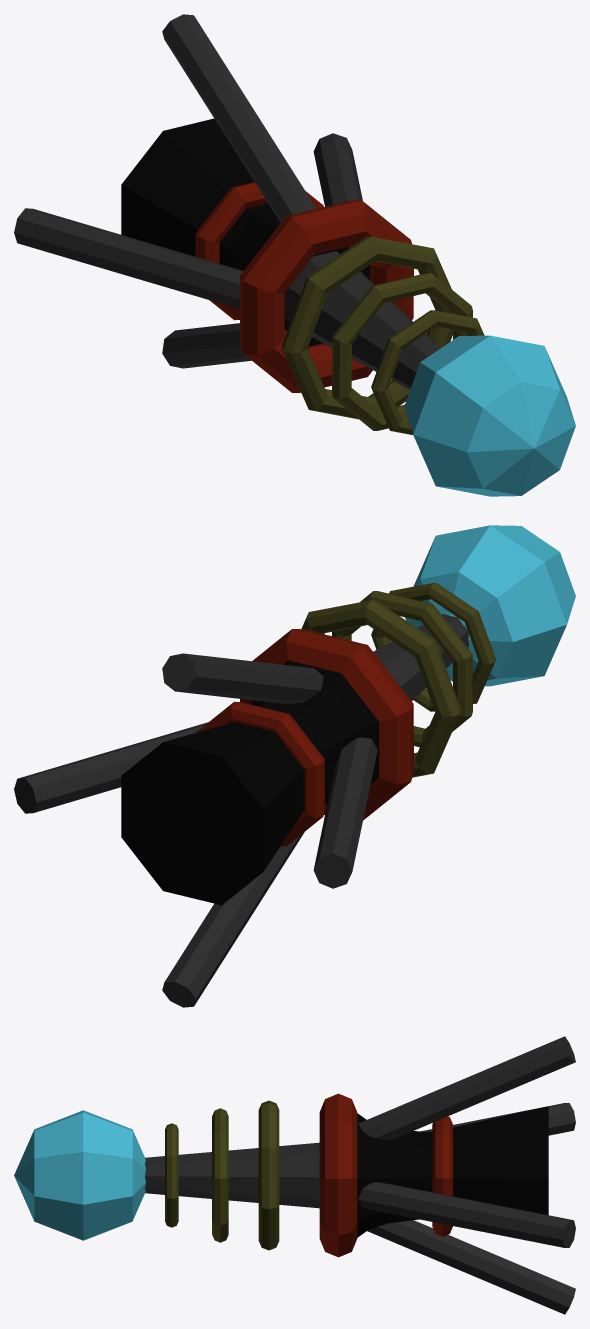
File: tesla2.obj
The picture shows the model from 3 angles, top to bottom: view 1: azimuth 30°, elevation 25°; view 2: azimuth 150°, elevation 25°; view 3: azimuth 270°, elevation 25°; orthographic projection. The views are drawn at different scales.
Parts seen in each view (by area): view 1: Circle.001; view 2: Circle.001; view 3: Circle.001.
Boxes of the visible parts, box(x1,y1,x2,y2) form: Circle.001: box(14, 14, 575, 496); Circle.001: box(14, 525, 575, 1007); Circle.001: box(14, 1036, 575, 1314).
Size of the model in its own units: 1.39 by 1.39 by 2.57.
